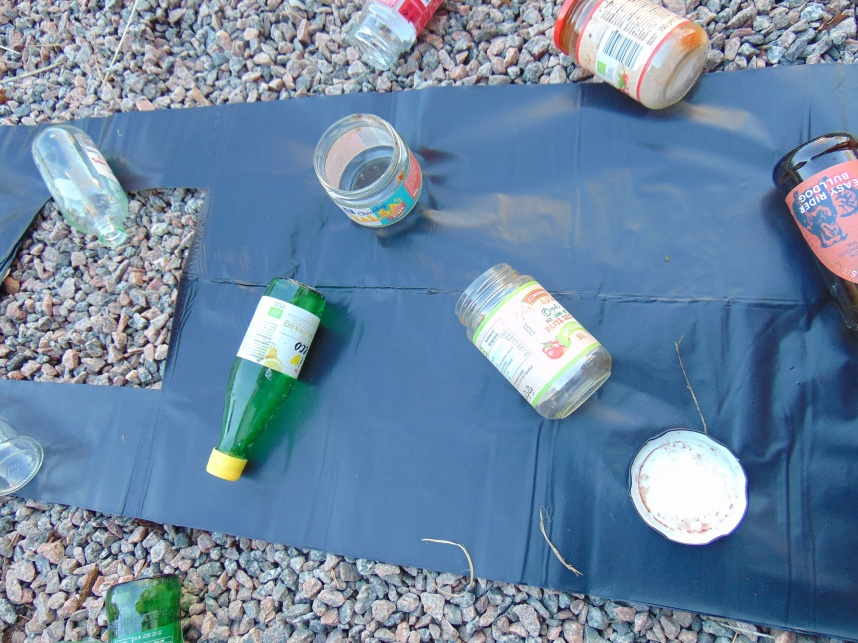glass_bottle: (456, 261, 615, 421), (205, 274, 325, 483), (771, 132, 858, 342), (553, 1, 711, 112), (310, 111, 428, 236), (30, 122, 130, 249), (347, 1, 444, 71), (105, 572, 183, 643), (1, 416, 43, 502)
metal: (628, 428, 750, 549)
